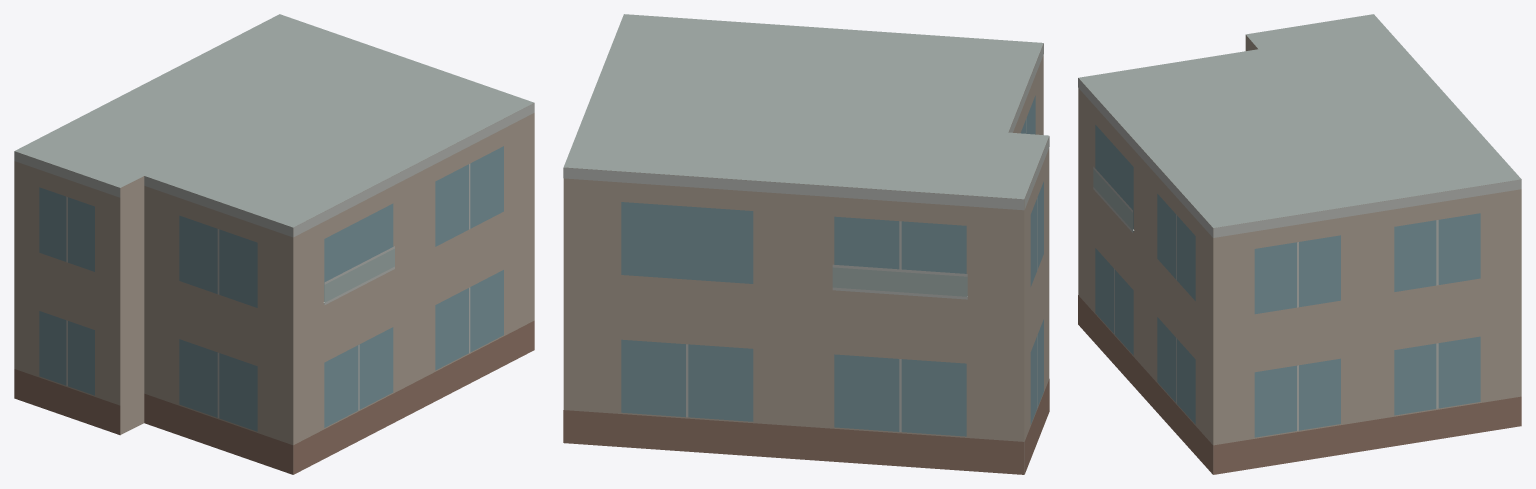
Rendered from survey-upis-32716240.glb.
The picture shows the model from 3 angles, left to right: view 1: azimuth 30°, elevation 25°; view 2: azimuth 150°, elevation 25°; view 3: azimuth 270°, elevation 25°; orthographic projection. The views are drawn at different scales.
Parts seen in each view (by area): view 1: survey-upis-32716240.tmp; view 2: survey-upis-32716240.tmp; view 3: survey-upis-32716240.tmp.
Part boxes in pixels (<box>): survey-upis-32716240.tmp: <box>14,14,534,474</box>; survey-upis-32716240.tmp: <box>563,14,1049,474</box>; survey-upis-32716240.tmp: <box>1078,14,1521,474</box>.
Size of the model in its own units: 11.37 by 6.1 by 9.95.
